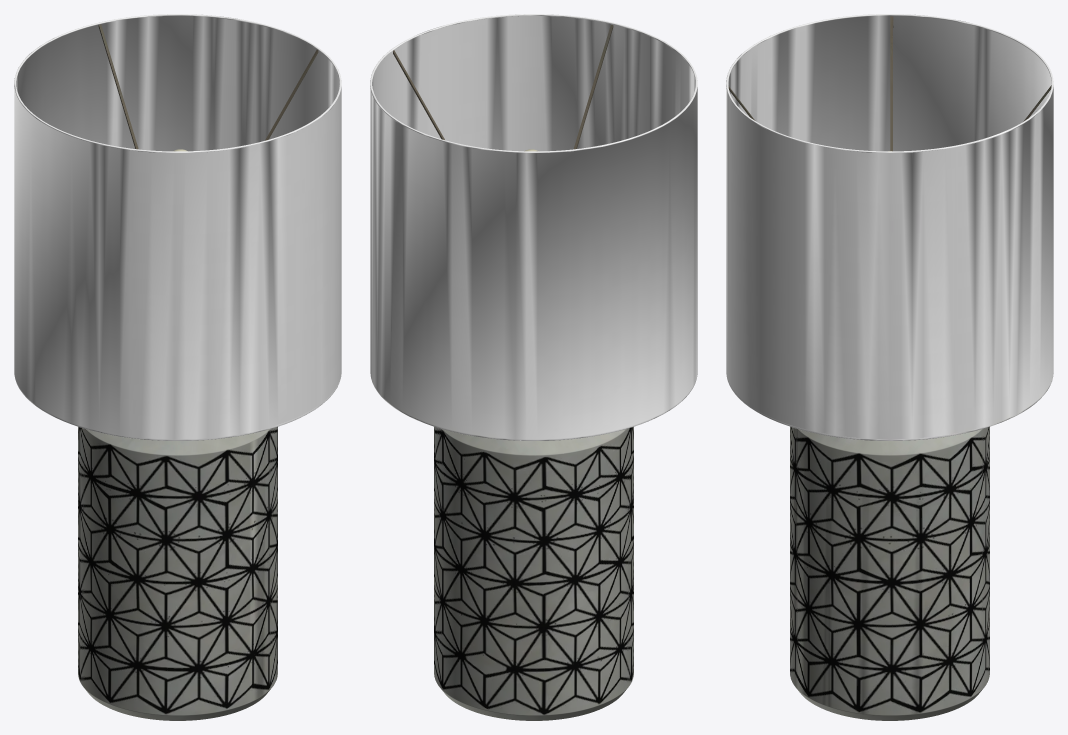
Rendered from B07MBFDKTH.glb.
The picture shows the model from 3 angles, left to right: view 1: azimuth 30°, elevation 25°; view 2: azimuth 150°, elevation 25°; view 3: azimuth 270°, elevation 25°; orthographic projection.
Visible parts, largest first — view 1: RootNode; view 2: RootNode; view 3: RootNode.
Boxes of the visible parts, bbox=[...] form: RootNode: bbox=[14, 14, 341, 720]; RootNode: bbox=[370, 14, 697, 720]; RootNode: bbox=[726, 14, 1053, 720].
Bounding box in the file's own units: 0.2061 × 0.4156 × 0.2061.
Materials: 1 (1 with a texture image).
